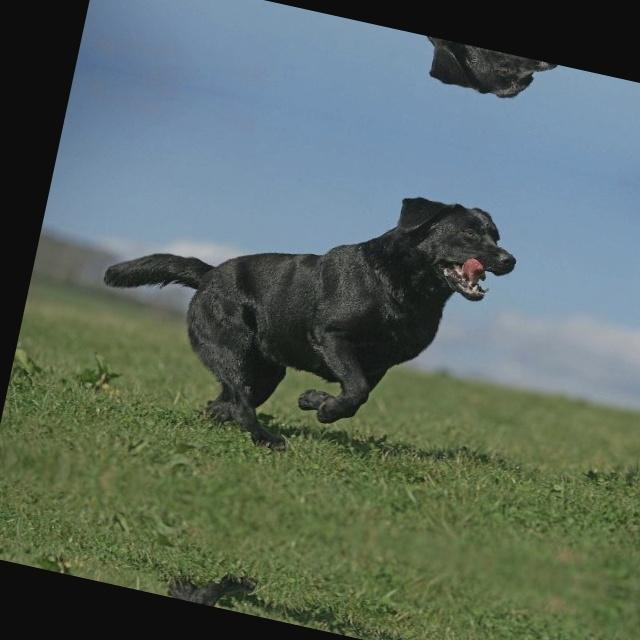dog: (366, 174, 552, 329), (408, 34, 582, 126)
